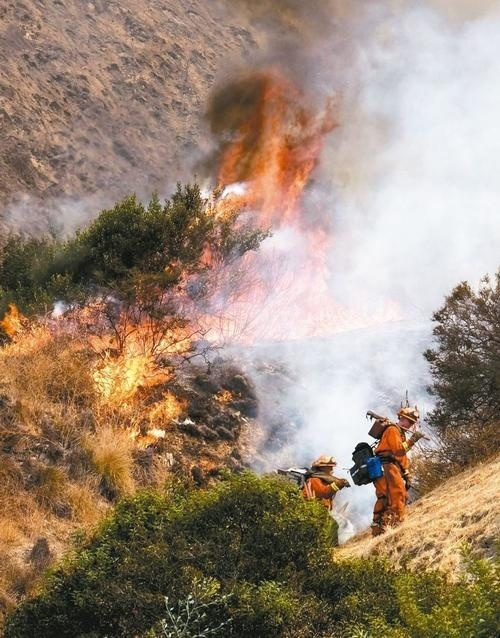fire: (189, 59, 402, 338), (74, 304, 196, 447), (0, 300, 53, 352)
